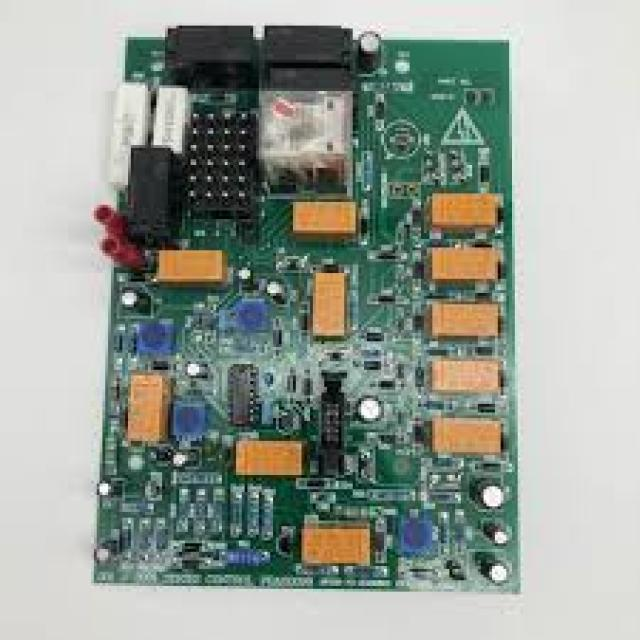pcb: (91, 23, 521, 594)
